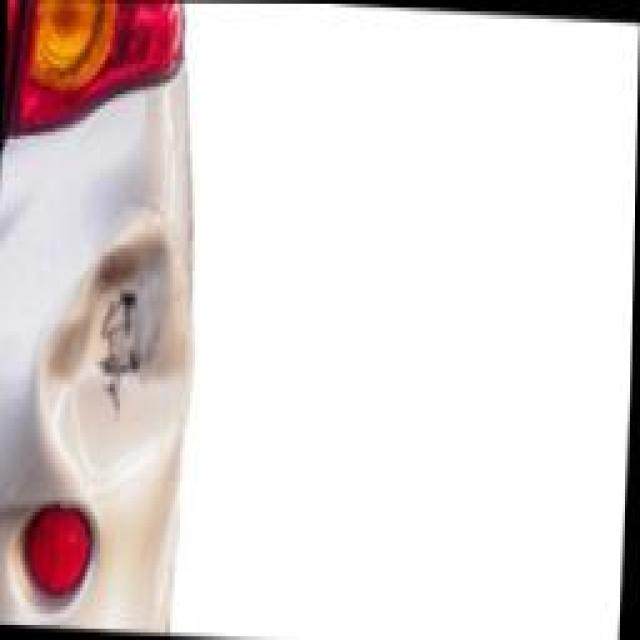Bumper: (0, 154, 225, 634)
